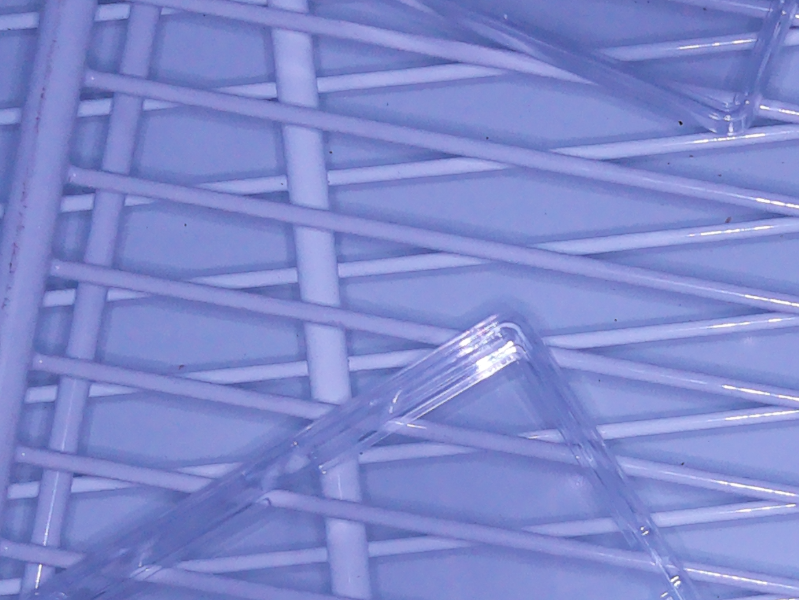plate: (33, 306, 704, 600), (445, 1, 799, 135)
